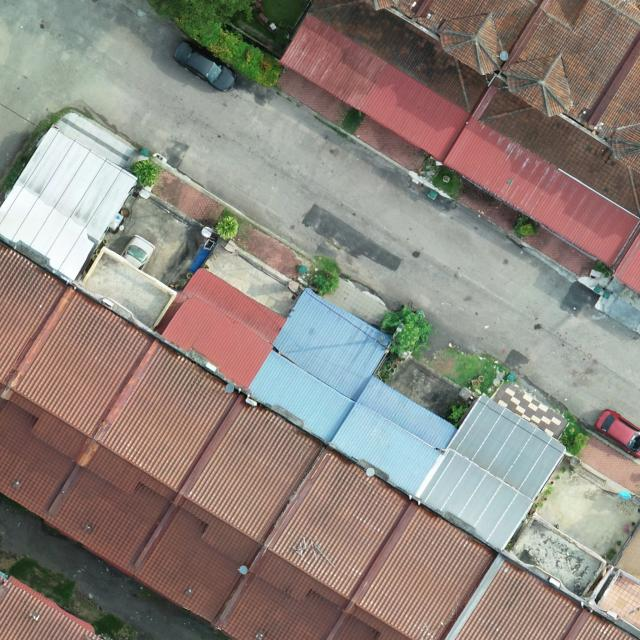tree: (379, 308, 432, 355), (129, 159, 159, 188), (311, 270, 340, 296), (216, 215, 240, 241)
